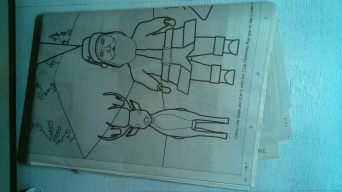p: (31, 3, 288, 191)
